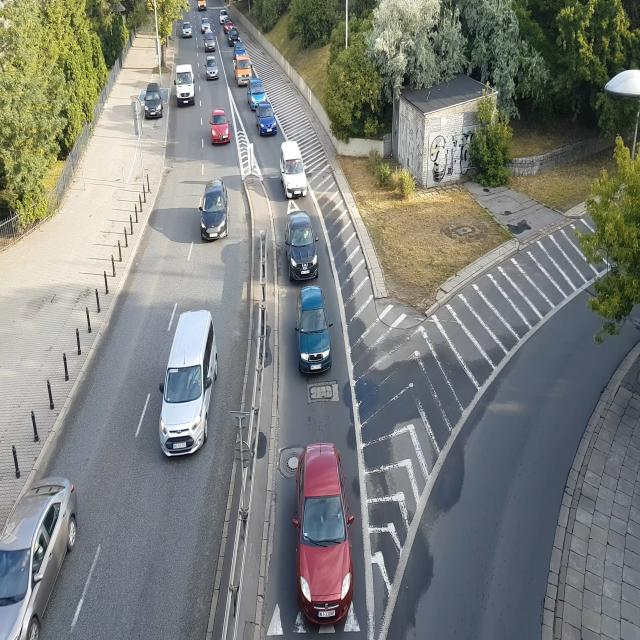car: (289, 437, 360, 620), (1, 479, 82, 636), (161, 311, 225, 467), (296, 280, 333, 372), (286, 212, 318, 280), (201, 182, 229, 240), (280, 144, 309, 198), (175, 65, 196, 106), (141, 86, 165, 120), (211, 108, 232, 146), (257, 109, 279, 139), (234, 56, 252, 84), (249, 92, 272, 111), (204, 58, 218, 81), (199, 14, 214, 35), (228, 25, 241, 45), (203, 36, 216, 53), (232, 41, 245, 58), (182, 23, 194, 38), (223, 18, 234, 34), (197, 0, 208, 14), (219, 8, 228, 21)
